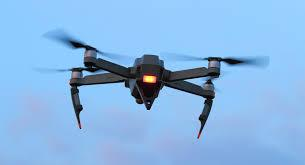drone_other: (31, 28, 270, 139)
